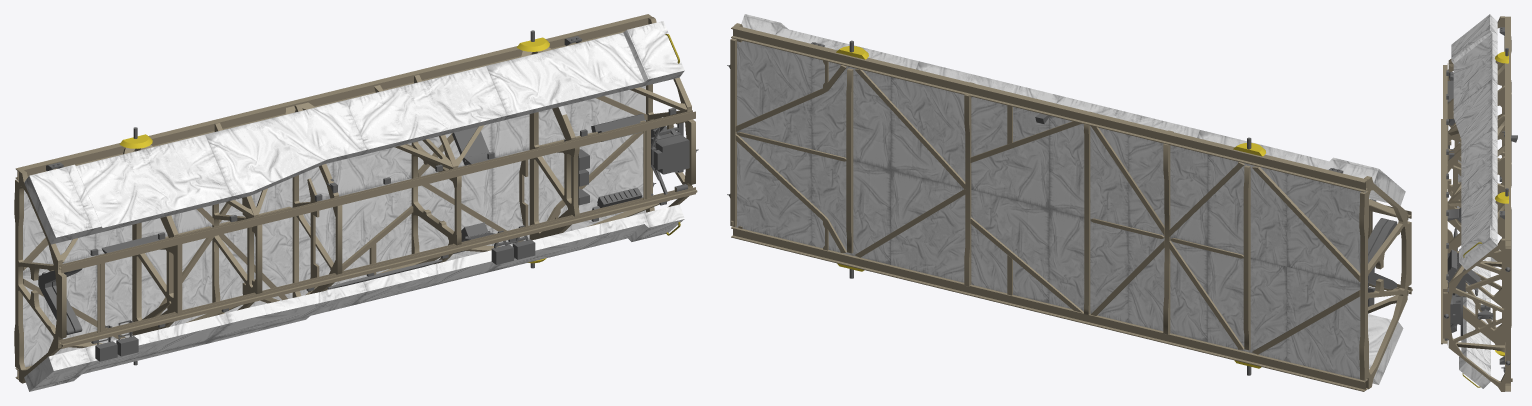
The picture shows the model from 3 angles, left to right: view 1: azimuth 30°, elevation 25°; view 2: azimuth 150°, elevation 25°; view 3: azimuth 270°, elevation 25°; orthographic projection. The views are drawn at different scales.
Visible parts, largest first — view 1: P1; view 2: P1; view 3: P1.
Part boxes in pixels (left/top/right/bottom): P1: left=14, top=14, right=698, bottom=391; P1: left=727, top=14, right=1412, bottom=391; P1: left=1441, top=14, right=1517, bottom=391.
Size of the model in its own units: 13.95 by 4.88 by 1.99.
6 materials, 2 textured.
